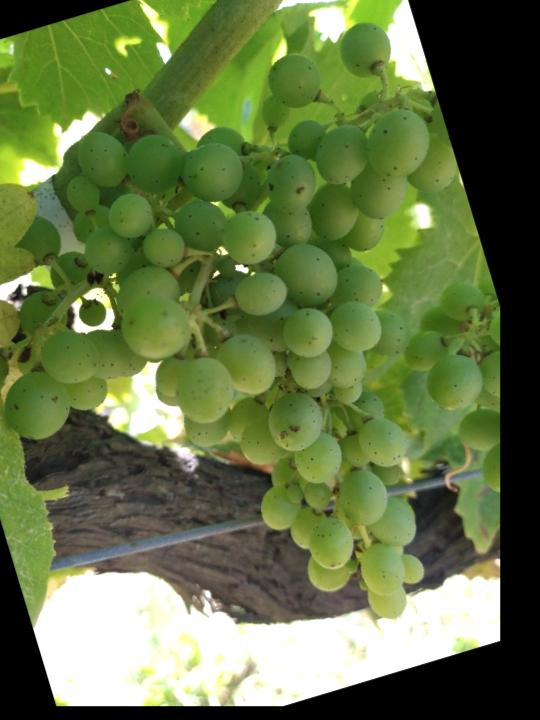grape: (0, 9, 540, 718)
